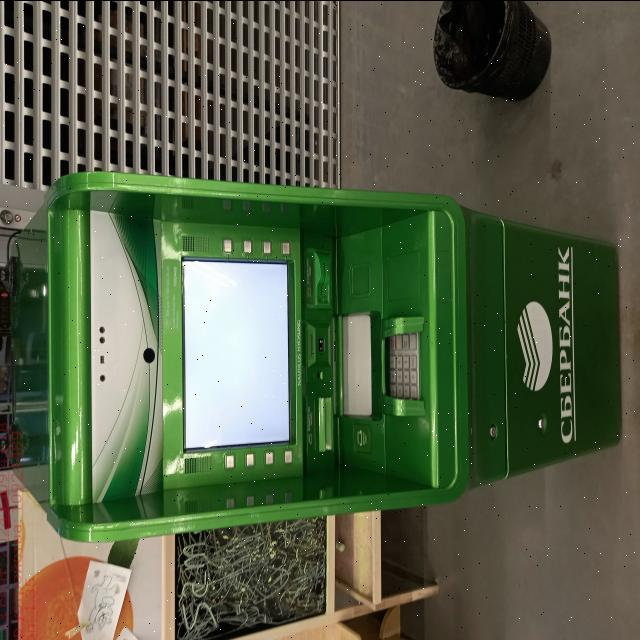bank: (9, 171, 622, 540)
